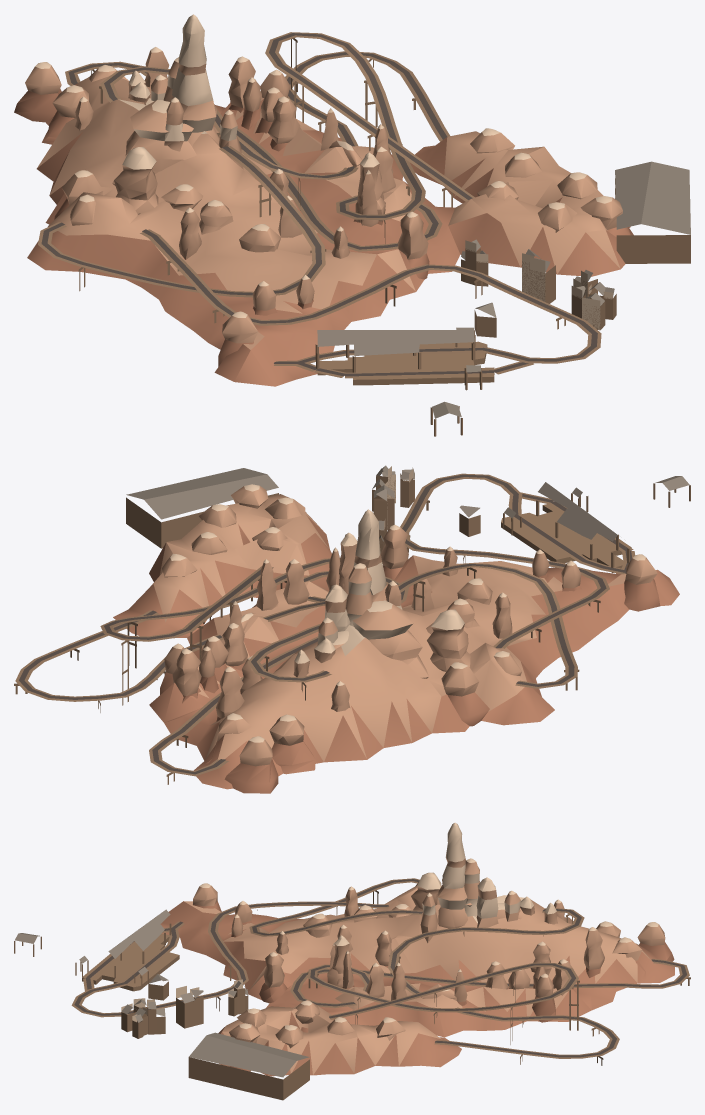
The model's file is dlr-big-thunder-mountain.glb.
3 views of the same model, one above another, from view 1: azimuth 30°, elevation 25°; view 2: azimuth 150°, elevation 25°; view 3: azimuth 270°, elevation 25° (orthographic). The views are drawn at different scales.
Visible parts, largest first — view 1: Big Thunder Mountain Railroad; view 2: Big Thunder Mountain Railroad; view 3: Big Thunder Mountain Railroad.
Part boxes in pixels (x1,y1,x2,y2): Big Thunder Mountain Railroad: (14,14,690,436); Big Thunder Mountain Railroad: (14,465,690,793); Big Thunder Mountain Railroad: (14,822,690,1100).
Size of the model in its own units: 94.81 by 31.4 by 135.
